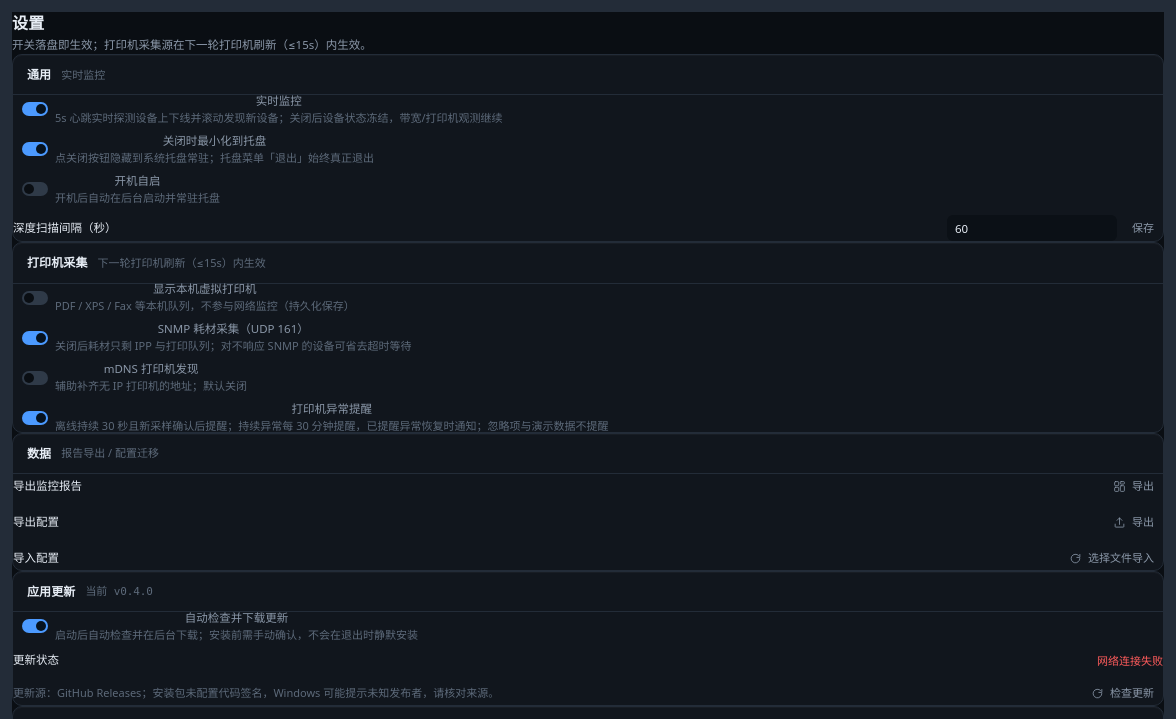
更新卡片 › 网络失败允许手动重试，IPC 拒绝可见且按钮恢复
expect the text "网络连接失败" is shown: met, box x1=1097 y1=653 x2=1163 y2=669
Click the button "检查更新".
click(1122, 693)  # box x1=1082 y1=681 x2=1163 y2=705
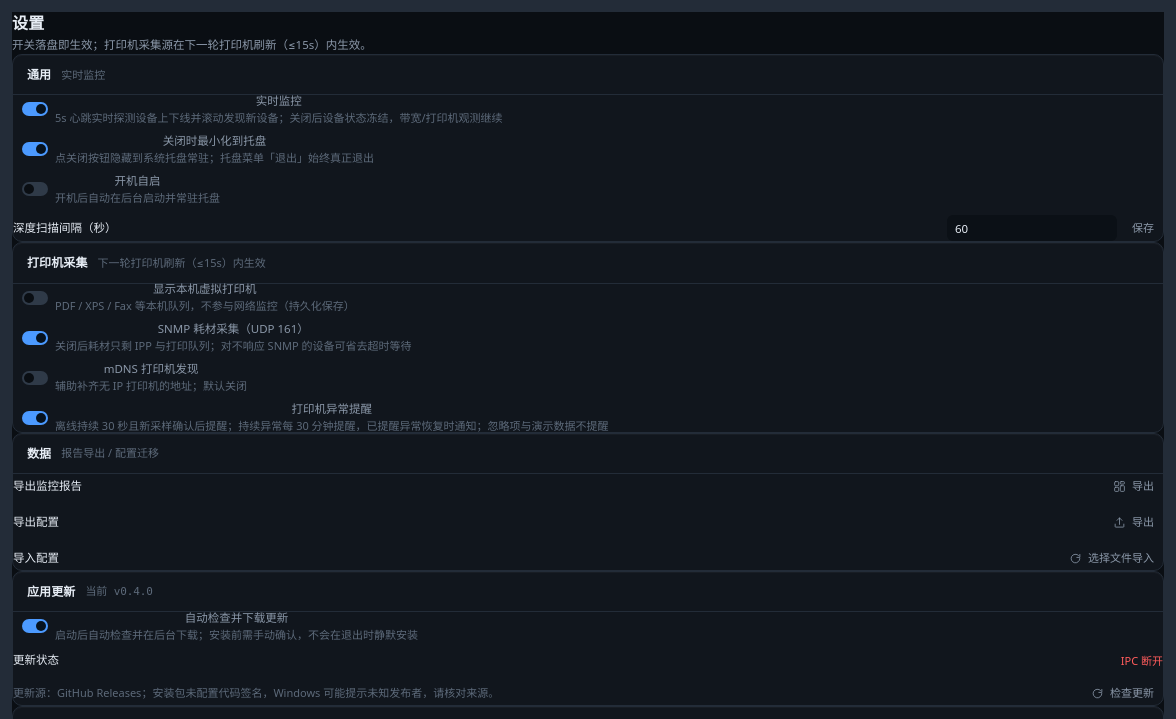
expect the text "IPC 断开" is shown: met, box x1=1121 y1=653 x2=1163 y2=669
